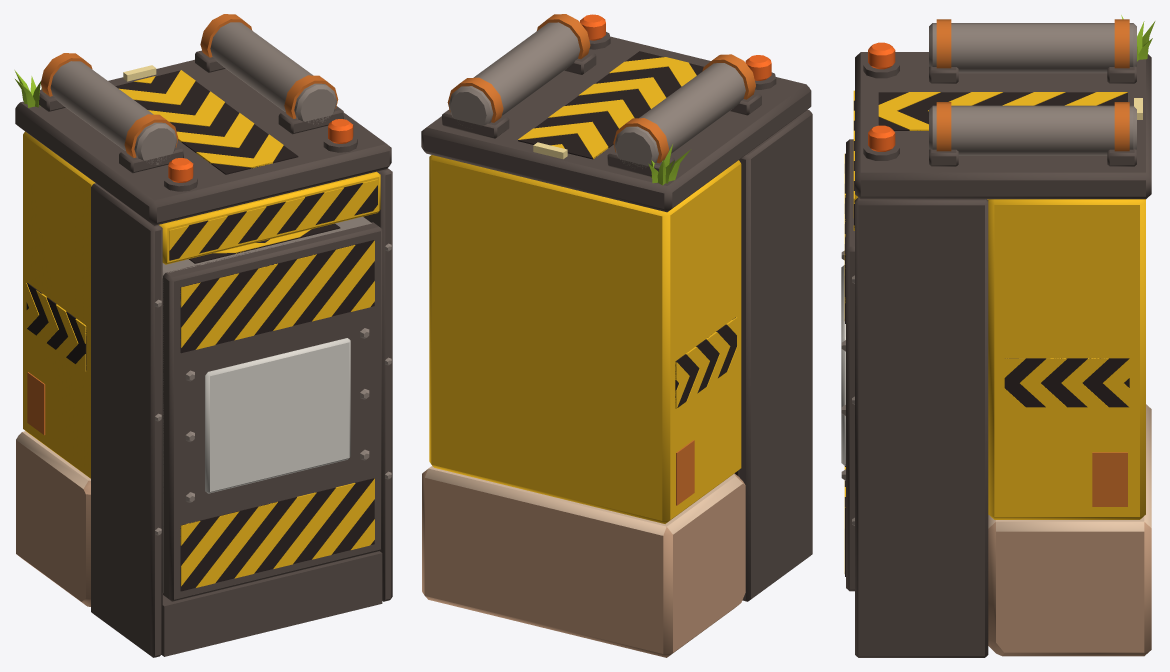
File: trap_crusher__upper.glb
The picture shows the model from 3 angles, left to right: view 1: azimuth 30°, elevation 25°; view 2: azimuth 150°, elevation 25°; view 3: azimuth 270°, elevation 25°; orthographic projection. The views are drawn at different scales.
Visible parts, largest first — view 1: Housing, Head; view 2: Housing; view 3: Housing, Head.
Boxes of the visible parts, x1,y1,x2,y2 form: Housing: (14, 14, 392, 657); Head: (162, 216, 382, 601); Housing: (421, 14, 812, 657); Housing: (852, 15, 1155, 657); Head: (841, 139, 854, 591).
Size of the model in its own units: 1.03 by 1.98 by 1.06.
